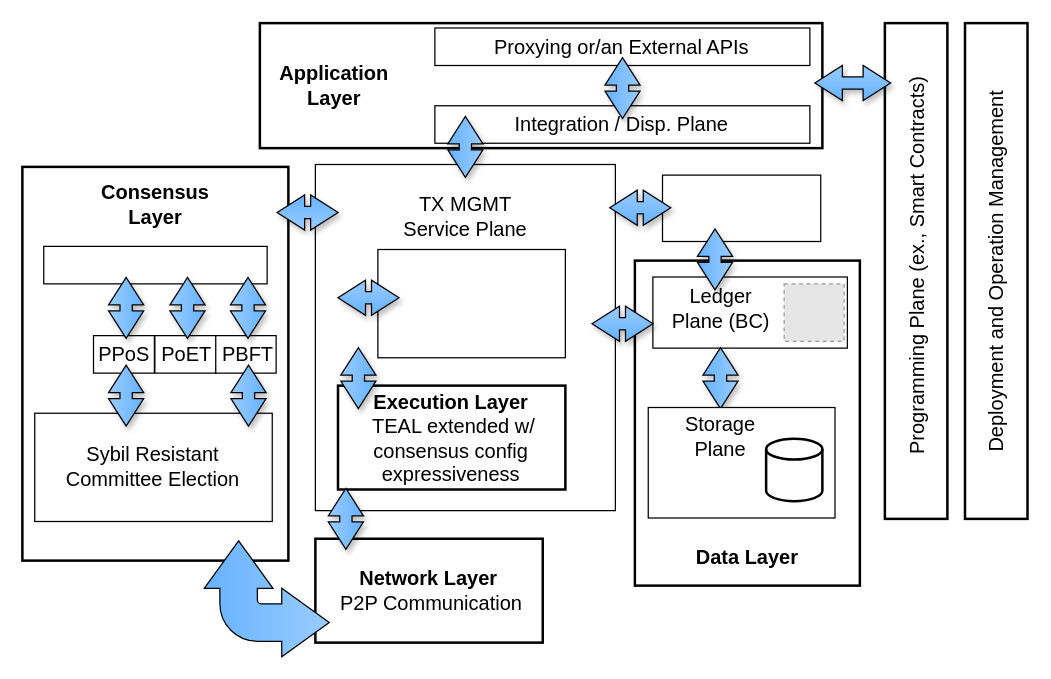
This 1051x679 diagram has some shape labels left out. Grey dashed boxes stand in for pictures. The shapes that lost their labels are listed below. From the top down, each one's centre as x and y in pixels, then its label:
At [741,208]: "TX Ordering Service Plane".
At [154,264]: "Pluggabble Consensus".
At [471,303]: "Crypto Service Plane ECDSA".
